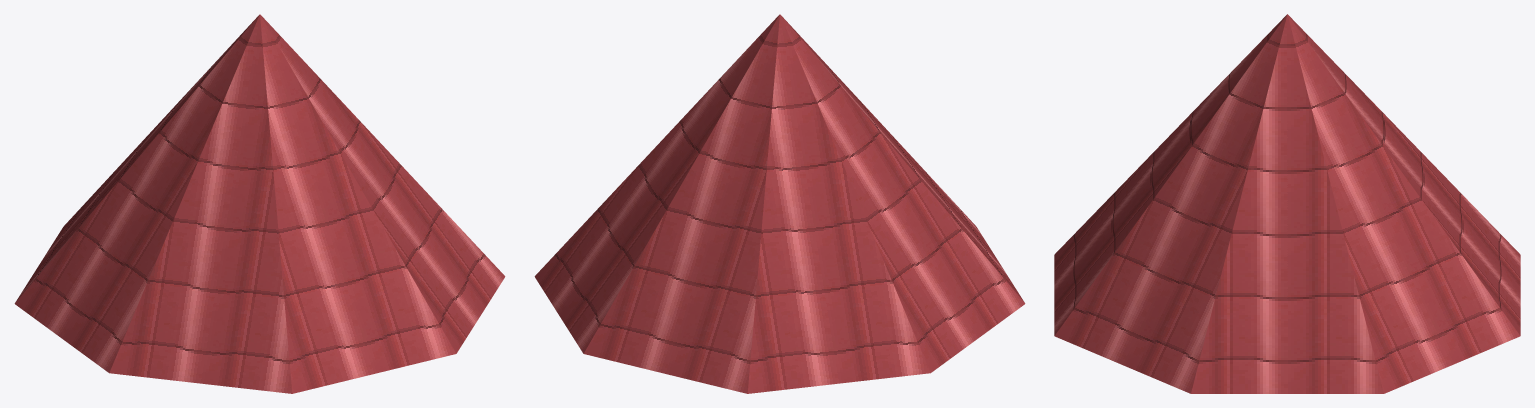
Rendered from roof2.obj.
3 views of the same model, side by side, from view 1: azimuth 30°, elevation 25°; view 2: azimuth 150°, elevation 25°; view 3: azimuth 270°, elevation 25° (orthographic).
Parts seen in each view (by area): view 1: Object.1; view 2: Object.1; view 3: Object.1.
Part boxes in pixels (x1=…): Object.1: x1=14, y1=14, x2=505, y2=393; Object.1: x1=534, y1=14, x2=1025, y2=393; Object.1: x1=1054, y1=14, x2=1520, y2=393.
Bounding box in the file's own units: 3 × 2 × 3.
